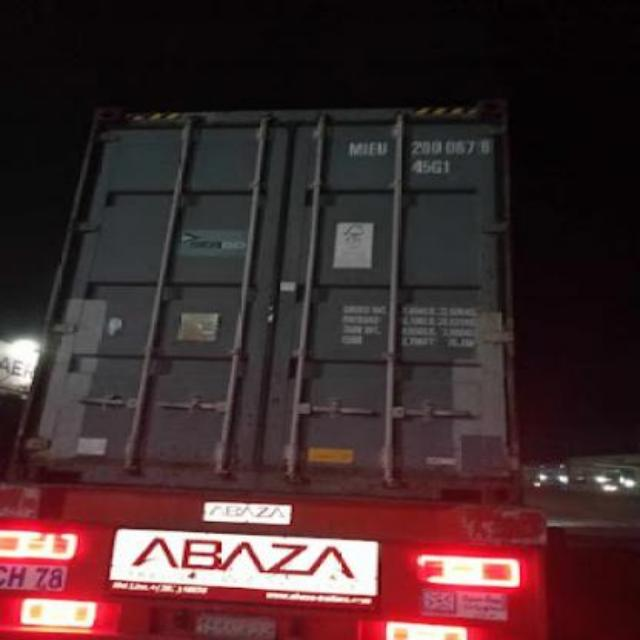0: (442, 132, 454, 158), (420, 134, 430, 158), (430, 134, 440, 158)
2: (404, 134, 420, 156)
6: (452, 132, 464, 158)
7: (464, 135, 476, 161)
8: (480, 136, 492, 158)
E: (368, 136, 378, 160)
I: (360, 136, 370, 160)
M: (342, 136, 363, 158)
U: (374, 138, 386, 158)
